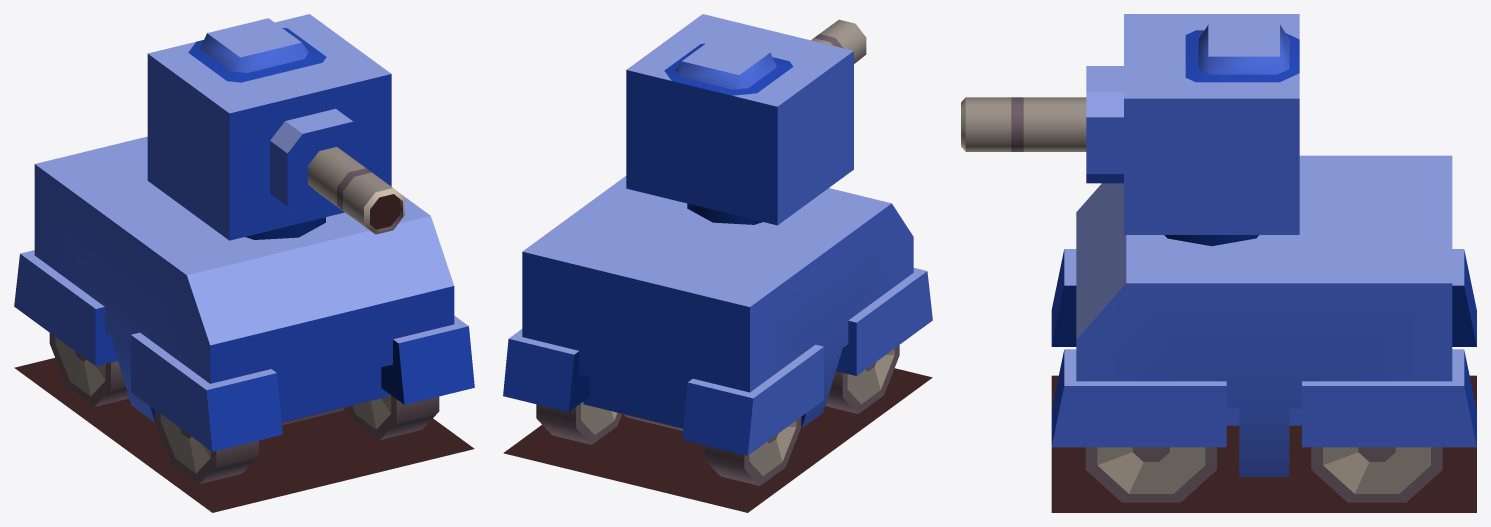
Rendered from ReconMesh.CobaltIce.glb.
3 renders of one model, left to right at view 1: azimuth 30°, elevation 25°; view 2: azimuth 150°, elevation 25°; view 3: azimuth 270°, elevation 25°, orthographic. The views are drawn at different scales.
Parts seen in each view (by area): view 1: ReconMesh.CobaltIce; view 2: ReconMesh.CobaltIce; view 3: ReconMesh.CobaltIce.
Part boxes in pixels (x1,y1,x2,y2): ReconMesh.CobaltIce: (14,14,474,512); ReconMesh.CobaltIce: (503,14,932,512); ReconMesh.CobaltIce: (961,14,1476,512).
Size of the model in its own units: 1.3 by 1.79 by 2.06.
1 material, 1 textured.
